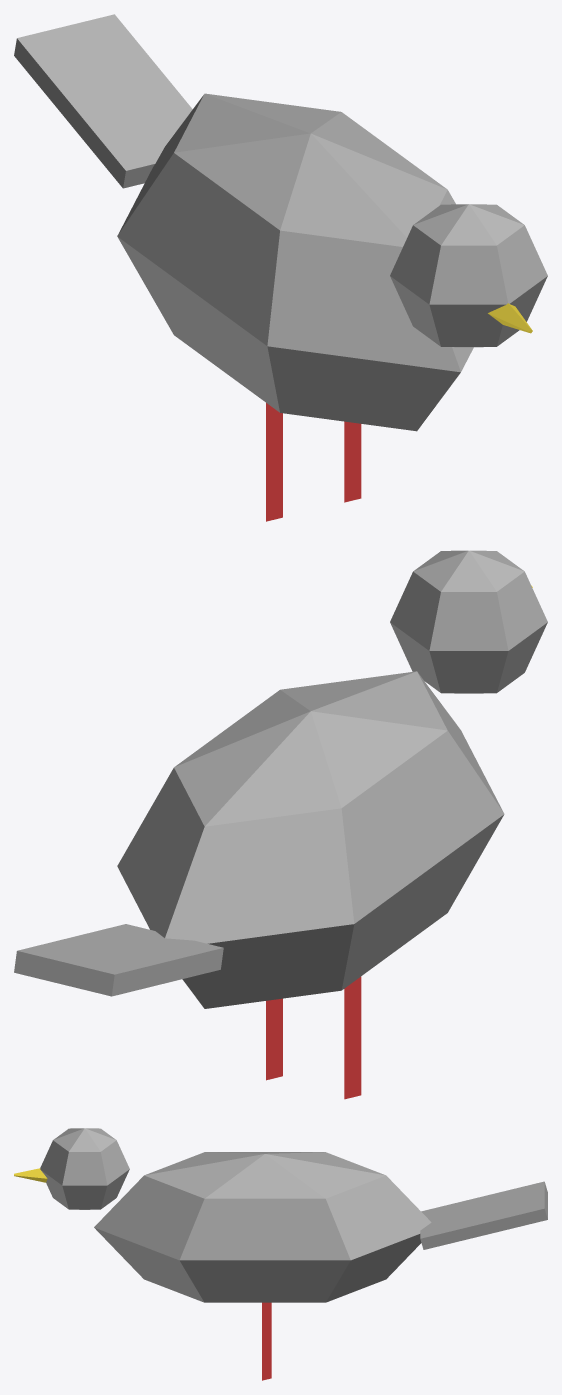
Rendered from pigeon.glb.
3 renders of one model, top to bottom at view 1: azimuth 30°, elevation 25°; view 2: azimuth 150°, elevation 25°; view 3: azimuth 270°, elevation 25°, orthographic. The views are drawn at different scales.
Visible parts, largest first — view 1: pigeon; view 2: pigeon; view 3: pigeon.
Boxes of the visible parts, x1,y1,x2,y2 form: pigeon: (14,14,547,521); pigeon: (14,550,547,1099); pigeon: (14,1128,547,1380).
Bounding box in the file's own units: 0.1212 × 0.205 × 0.4146.
